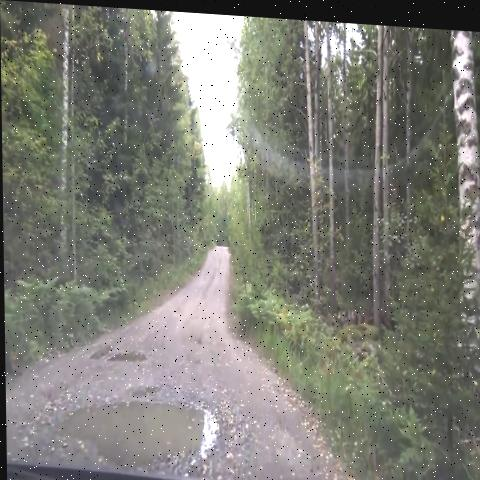pothole: (39, 377, 225, 471), (103, 336, 154, 375), (83, 335, 112, 366)
